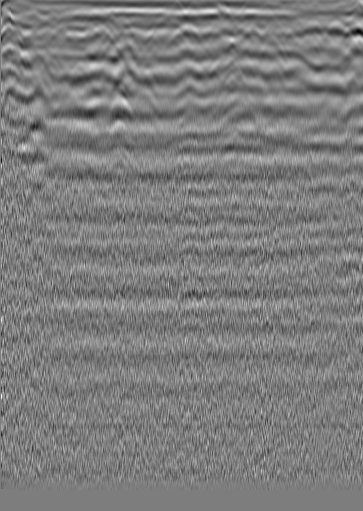가스: (214, 104, 257, 136)
상수: (325, 19, 345, 39)
오수: (18, 27, 38, 47)
우수: (170, 24, 196, 45)
